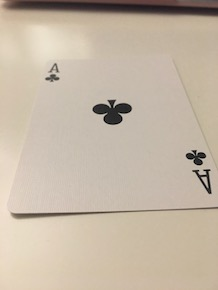AceOfClubs: (8, 52, 218, 218)
